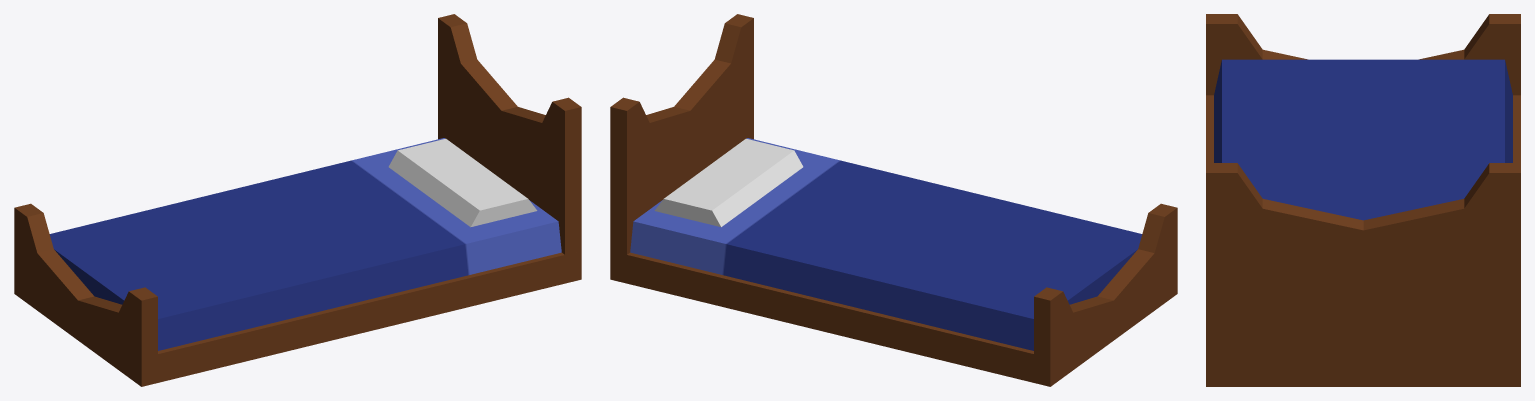
File: bed_textured.fbx
3 renders of one model, left to right at view 1: azimuth 30°, elevation 25°; view 2: azimuth 150°, elevation 25°; view 3: azimuth 270°, elevation 25°, orthographic. The views are drawn at different scales.
Visible parts, largest first — view 1: Cube; view 2: Cube; view 3: Cube.
Part boxes in pixels (box(x1,y1,x2,y2)): Cube: box(14, 14, 581, 386); Cube: box(610, 14, 1177, 386); Cube: box(1206, 14, 1520, 386).
Bounding box in the file's own units: 800 × 300 × 400.
